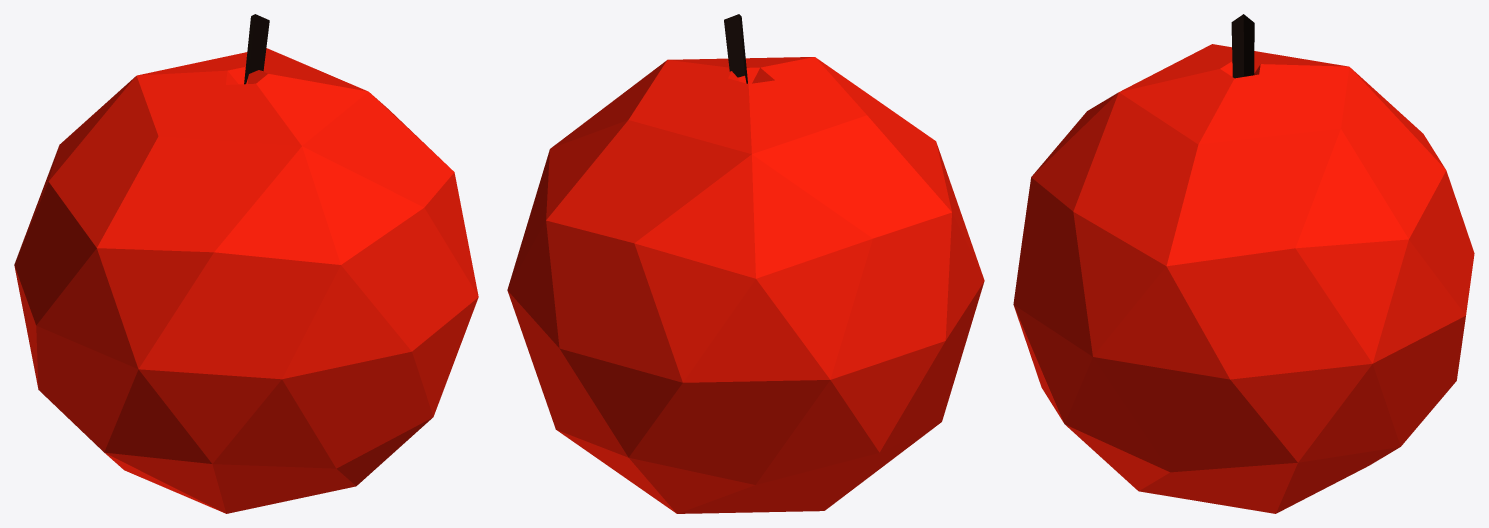
The model's file is orange.obj.
The picture shows the model from 3 angles, left to right: view 1: azimuth 30°, elevation 25°; view 2: azimuth 150°, elevation 25°; view 3: azimuth 270°, elevation 25°; orthographic projection.
Parts seen in each view (by area): view 1: Icosphere; view 2: Icosphere; view 3: Icosphere.
Boxes of the visible parts, <box> form: Icosphere: <box>14,14,478,513</box>; Icosphere: <box>507,14,984,513</box>; Icosphere: <box>1013,14,1474,513</box>.
Size of the model in its own units: 1.28 by 1.44 by 1.24.
